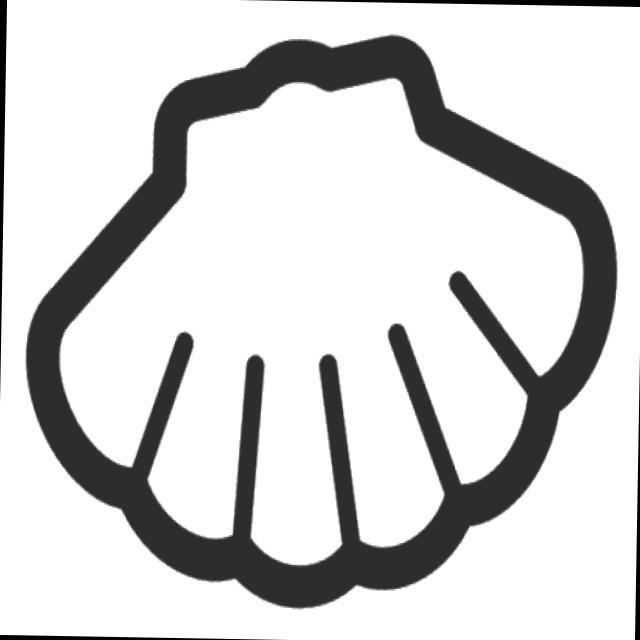shell: (8, 10, 634, 625)
